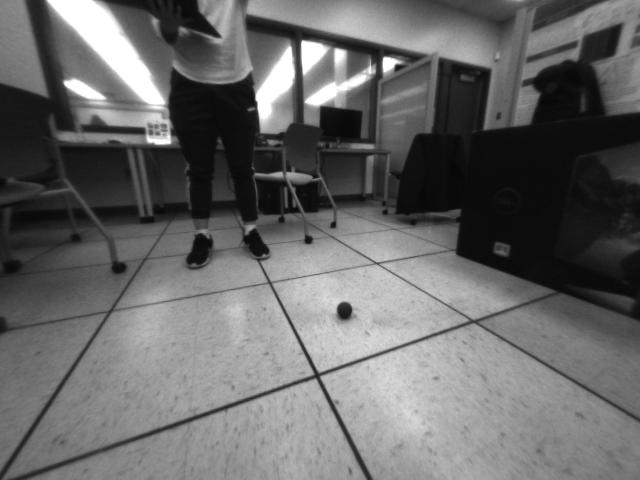dogtoy: (331, 293, 358, 326)
